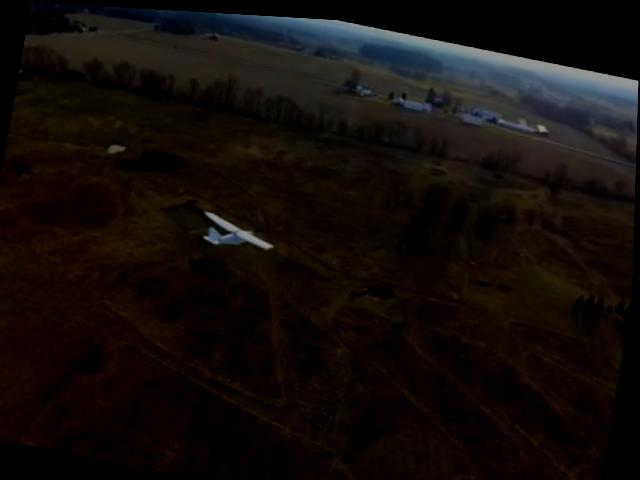uav: (192, 198, 289, 266)
